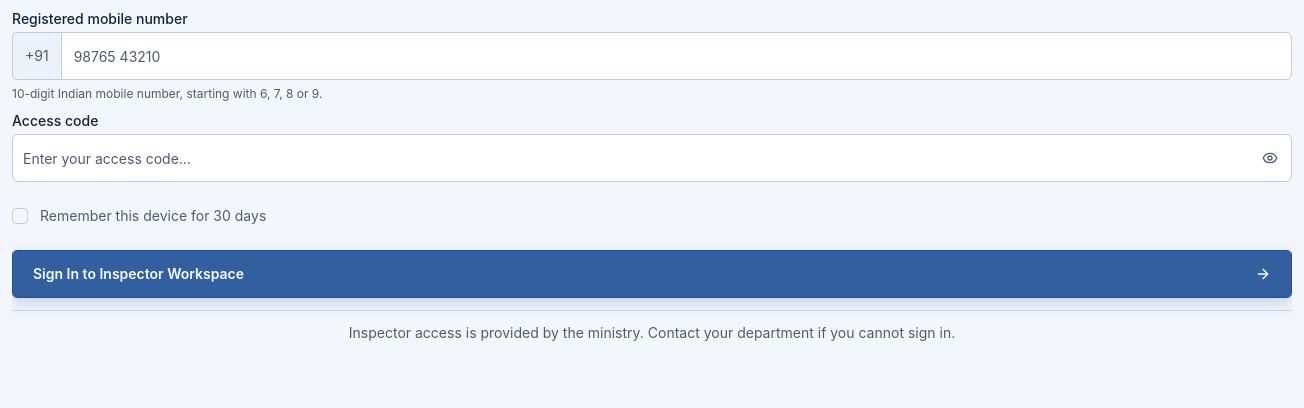
Test case: authentication workflow › sends the inspector workspace role and reports cross-workspace access denial
This screenshot has width=1304, height=408.
Type "9876543210" into the field labelled "Registered mobile number" at (676, 56), box top-left (61, 32), bottom-right (1292, 80)
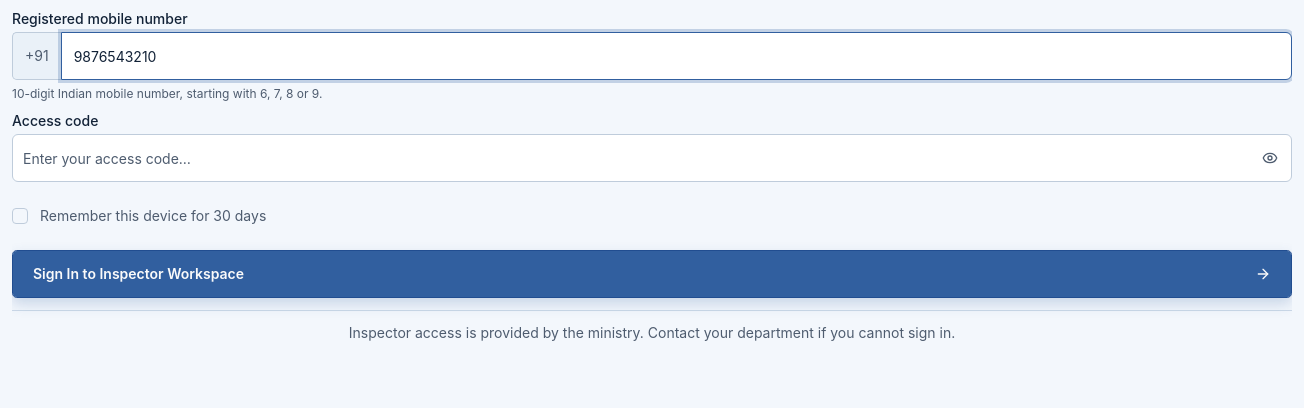
Type "strong-code-123" into the password field labelled "Access code" at (652, 158), box top-left (12, 134), bottom-right (1292, 182)
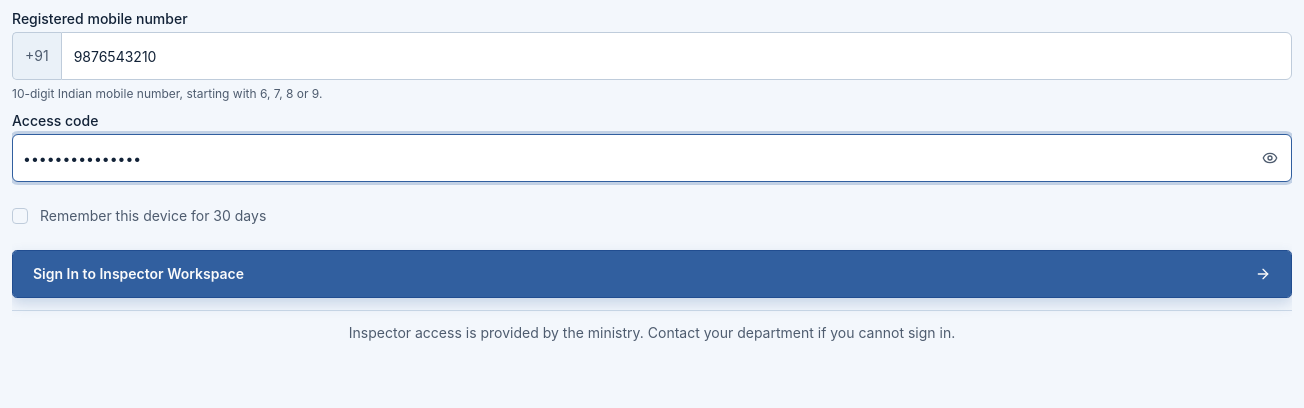
Click the button "Sign In to Inspector Workspace" at (139, 274), box top-left (12, 250), bottom-right (1292, 298)
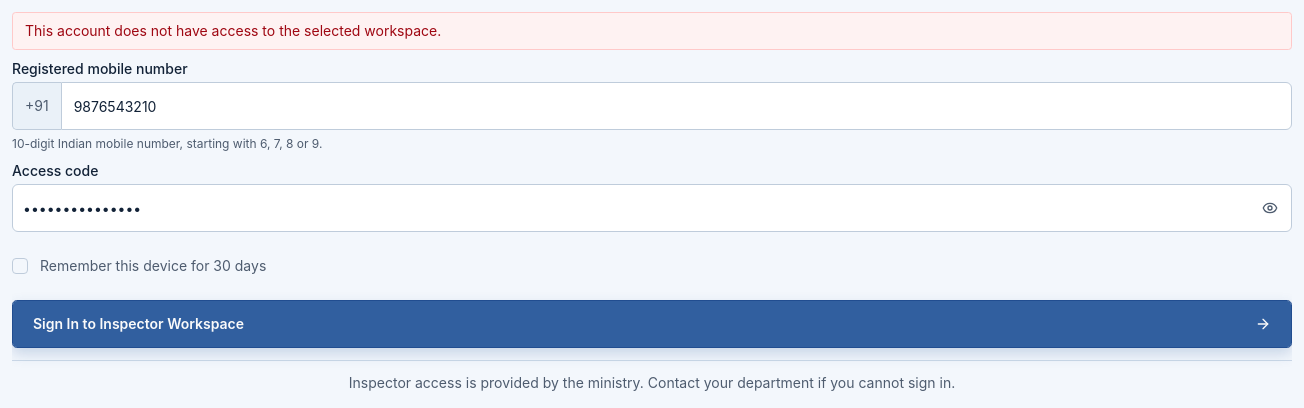
Check: the message shows "does not have access to the selected workspace", box top-left (25, 22), bottom-right (441, 39)
